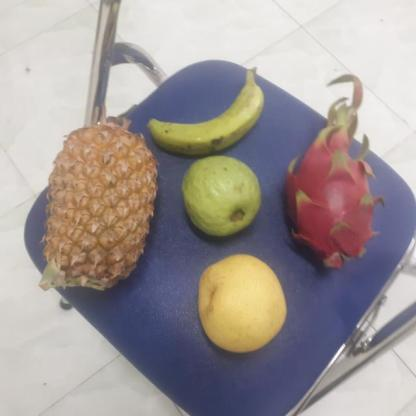banana: (145, 72, 265, 158)
guava: (178, 158, 262, 235)
pear: (194, 252, 289, 353)
pineapple: (34, 132, 156, 290)
pitaya: (279, 127, 381, 273)
